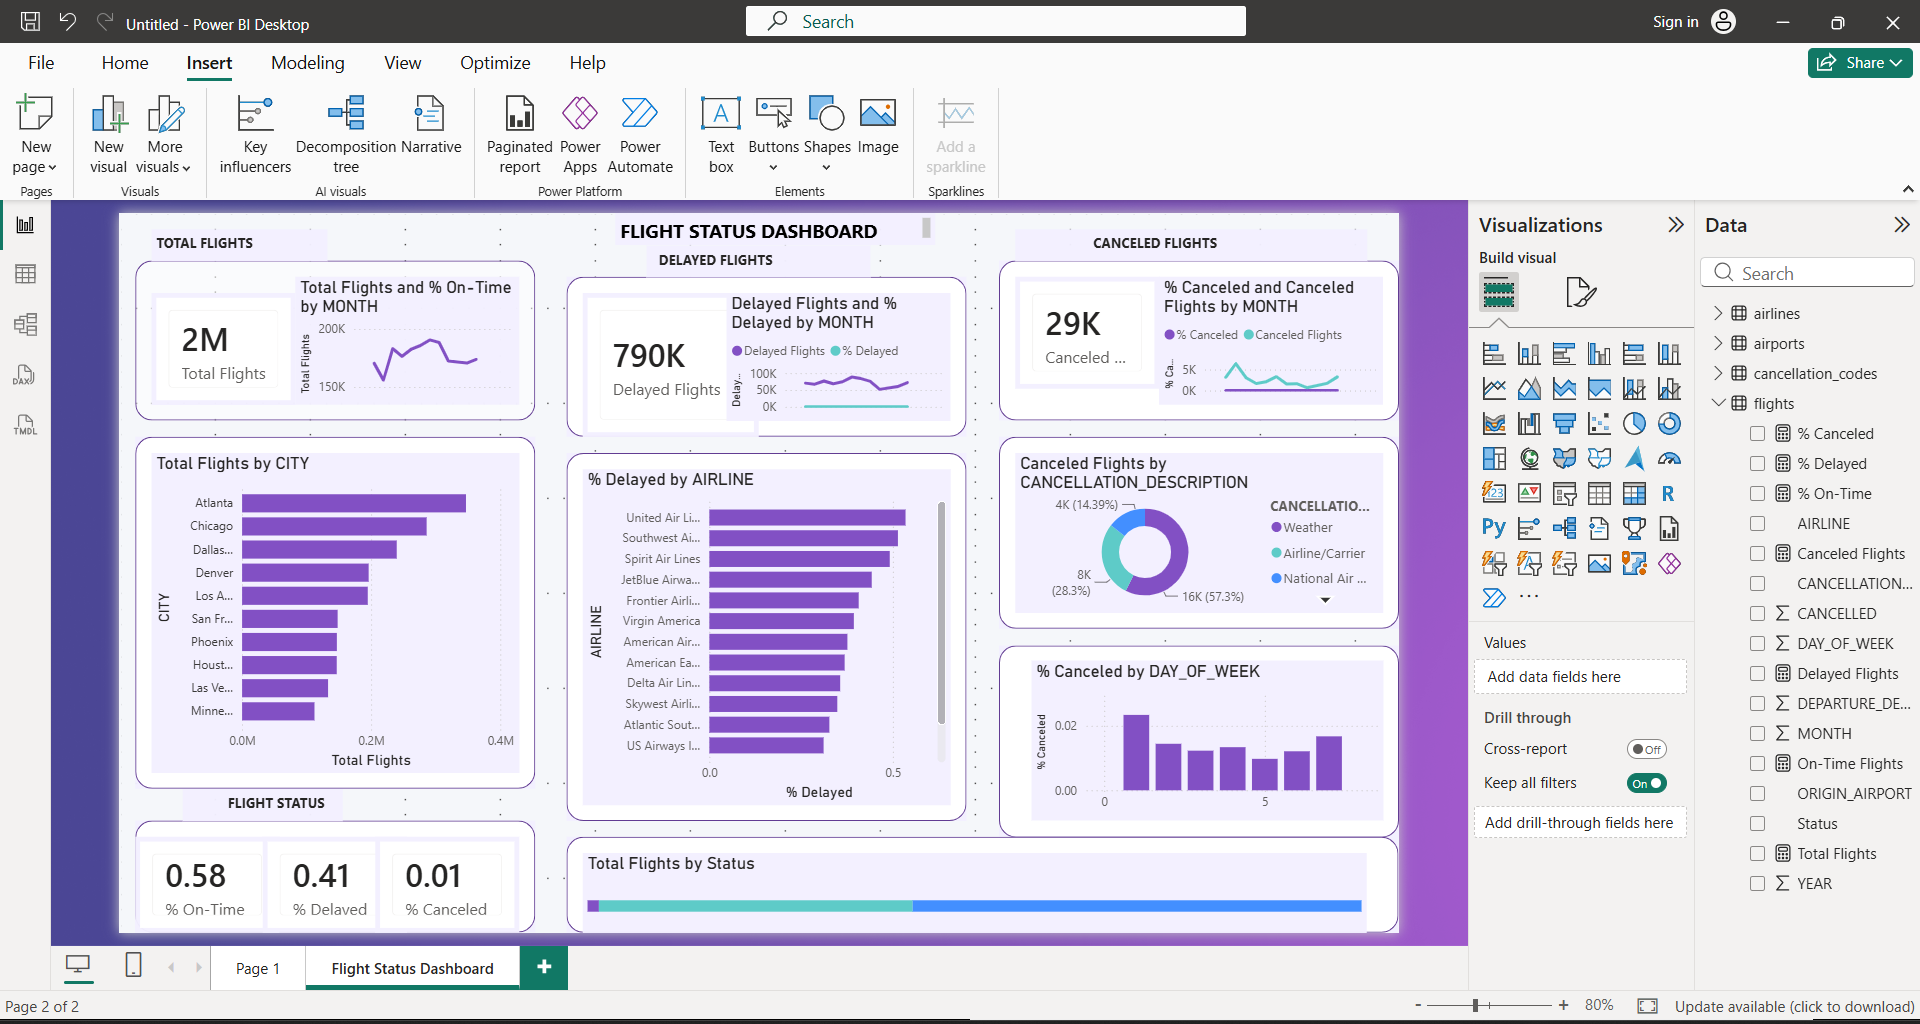

This screenshot's page, from the dashboard's own definition file:
{"tool":"powerbi","page":{"name":"Flight Status Dashboard ","canvas":[1280,720],"ordinal":1},"visuals":[{"type":"shape","box":[16,48,400,160],"z":0},{"type":"shape","box":[448,64,400,160],"z":1000},{"type":"shape","box":[880,48,400,160],"z":2000},{"type":"shape","box":[448,240,400,368],"z":3000},{"type":"shape","box":[16,224,400,352],"z":4000},{"type":"shape","box":[880,224,400,192],"z":5000},{"type":"shape","box":[880,432,400,192],"z":6000},{"type":"shape","box":[16,608,400,112],"z":7000},{"type":"shape","box":[448,624,832,96],"z":8000},{"type":"textbox","box":[32,16,176,32],"z":9000},{"type":"textbox","box":[896,16,352,32],"z":10000},{"type":"textbox","box":[528,32,224,32],"z":11000},{"type":"textbox","box":[64,576,160,32],"z":12000},{"type":"cardVisual","fields":{"Data":["flights.Total Flights"]},"box":[32,80,144,112],"z":13000},{"type":"lineChart","fields":{"Y":["flights.Total Flights"],"Category":["flights.MONTH"]},"box":[176,64,224,128],"z":14000},{"type":"cardVisual","fields":{"Data":["flights.Canceled Flights"]},"box":[896,64,144,112],"z":15000},{"type":"cardVisual","fields":{"Data":["flights.Delayed Flights"]},"box":[464,80,176,144],"z":16000},{"type":"lineChart","fields":{"Y":["flights.Delayed Flights","flights.% Delayed"],"Category":["flights.MONTH"]},"box":[608,80,224,128],"z":17000},{"type":"lineChart","fields":{"Y":["flights.% Canceled","flights.Canceled Flights"],"Category":["flights.MONTH"]},"box":[1040,64,224,128],"z":18000},{"type":"cardVisual","fields":{"Data":["flights.% On-Time"]},"box":[16,624,144,96],"z":19000},{"type":"cardVisual","fields":{"Data":["flights.% Delayed"]},"box":[144,624,144,96],"z":20000},{"type":"cardVisual","fields":{"Data":["flights.% Canceled"]},"box":[256,624,144,96],"z":21000},{"type":"clusteredBarChart","fields":{"Category":["airports.CITY"],"Y":["flights.Total Flights"]},"box":[32,240,368,320],"z":22000},{"type":"clusteredBarChart","fields":{"Category":["airlines.AIRLINE"],"Y":["flights.% Delayed"]},"box":[464,256,368,336],"z":23000},{"type":"donutChart","fields":{"Category":["cancellation_codes.CANCELLATION_DESCRIPTION"],"Y":["flights.Canceled Flights"]},"box":[896,240,368,160],"z":24000},{"type":"columnChart","fields":{"Y":["flights.% Canceled"],"Category":["flights.DAY_OF_WEEK"]},"box":[912,448,352,160],"z":25000},{"type":"hundredPercentStackedBarChart","fields":{"Y":["flights.Total Flights"],"Series":["flights.Status"]},"box":[464,640,784,80],"z":26000},{"type":"textbox","box":[448,0,336,32],"z":27000}]}

Visuals, with their boxes on the page's 1280x720 design canvas (x1, y1, x2, y2). These are canvas units, not pixel positions in the 1920x1024 screenshot, which may show the page scaled, cropped or inside an application window:
shape: l=16, t=48, r=416, b=208
shape: l=448, t=64, r=848, b=224
shape: l=880, t=48, r=1280, b=208
shape: l=448, t=240, r=848, b=608
shape: l=16, t=224, r=416, b=576
shape: l=880, t=224, r=1280, b=416
shape: l=880, t=432, r=1280, b=624
shape: l=16, t=608, r=416, b=720
shape: l=448, t=624, r=1280, b=720
textbox: l=32, t=16, r=208, b=48
textbox: l=896, t=16, r=1248, b=48
textbox: l=528, t=32, r=752, b=64
textbox: l=64, t=576, r=224, b=608
cardVisual - flights.Total Flights: l=32, t=80, r=176, b=192
lineChart - flights.Total Flights x flights.MONTH: l=176, t=64, r=400, b=192
cardVisual - flights.Canceled Flights: l=896, t=64, r=1040, b=176
cardVisual - flights.Delayed Flights: l=464, t=80, r=640, b=224
lineChart - flights.Delayed Flights x flights.% Delayed: l=608, t=80, r=832, b=208
lineChart - flights.% Canceled x flights.Canceled Flights: l=1040, t=64, r=1264, b=192
cardVisual - flights.% On-Time: l=16, t=624, r=160, b=720
cardVisual - flights.% Delayed: l=144, t=624, r=288, b=720
cardVisual - flights.% Canceled: l=256, t=624, r=400, b=720
clusteredBarChart - airports.CITY x flights.Total Flights: l=32, t=240, r=400, b=560
clusteredBarChart - airlines.AIRLINE x flights.% Delayed: l=464, t=256, r=832, b=592
donutChart - cancellation_codes.CANCELLATION_DESCRIPTION x flights.Canceled Flights: l=896, t=240, r=1264, b=400
columnChart - flights.% Canceled x flights.DAY_OF_WEEK: l=912, t=448, r=1264, b=608
hundredPercentStackedBarChart - flights.Total Flights x flights.Status: l=464, t=640, r=1248, b=720
textbox: l=448, t=0, r=784, b=32
